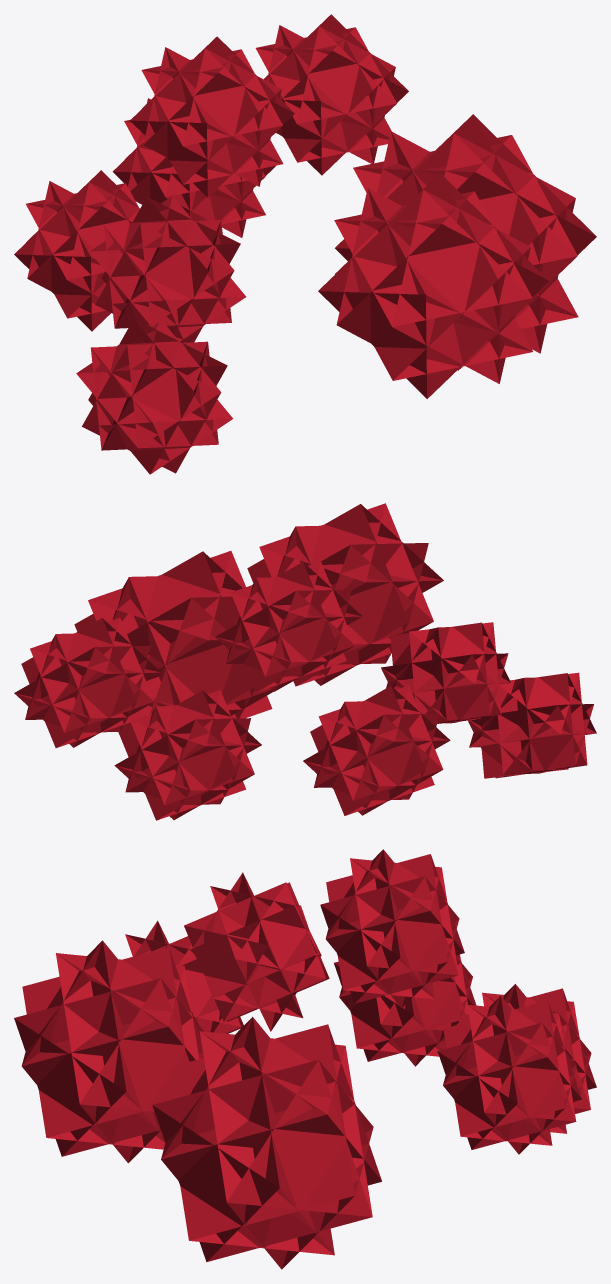
File: tree-dead-leaves-032.glb
3 renders of one model, top to bottom at view 1: azimuth 30°, elevation 25°; view 2: azimuth 150°, elevation 25°; view 3: azimuth 270°, elevation 25°, orthographic. The views are drawn at different scales.
Visible parts, largest first — view 1: Plane.086_477; view 2: Plane.086_477; view 3: Plane.086_477.
Part boxes in pixels (<box>): Plane.086_477: <box>14,14,596,474</box>; Plane.086_477: <box>14,503,596,820</box>; Plane.086_477: <box>14,849,596,1269</box>.
Size of the model in its own units: 2.01 by 1.14 by 1.92.
